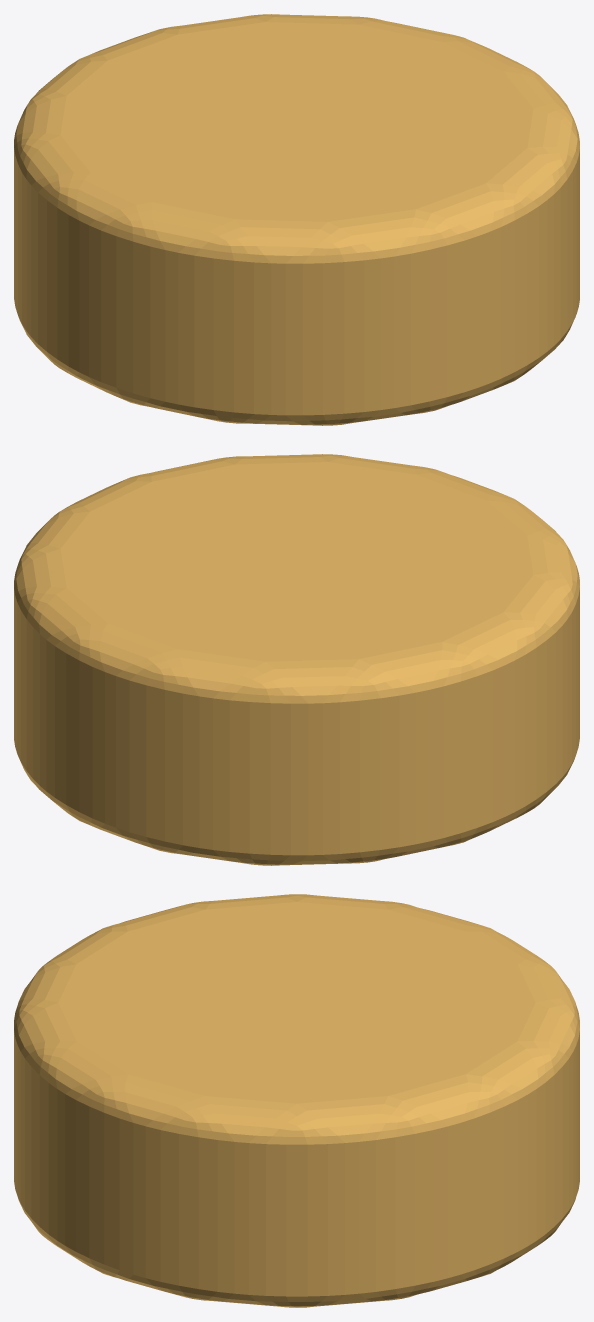
The model's file is RoundCake.fbx.
The picture shows the model from 3 angles, top to bottom: view 1: azimuth 30°, elevation 25°; view 2: azimuth 150°, elevation 25°; view 3: azimuth 270°, elevation 25°; orthographic projection.
Visible parts, largest first — view 1: Round Cake; view 2: Round Cake; view 3: Round Cake.
Boxes of the visible parts, bbox=[...] form: Round Cake: bbox=[14, 14, 579, 425]; Round Cake: bbox=[14, 454, 579, 865]; Round Cake: bbox=[14, 894, 579, 1307].
Size of the model in its own units: 78.39 by 30 by 78.39.
